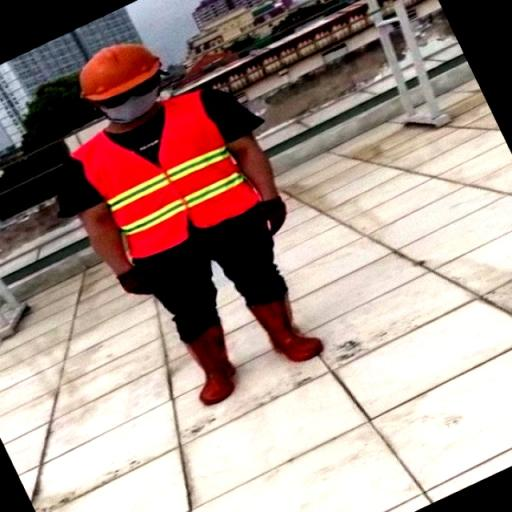Person: (40, 36, 370, 432)
boots: (242, 292, 340, 372), (184, 314, 240, 413)
gloves: (258, 195, 292, 242), (114, 268, 156, 302)
goggles: (96, 77, 165, 110)
helmet: (76, 42, 167, 101)
vest: (66, 92, 264, 262)
